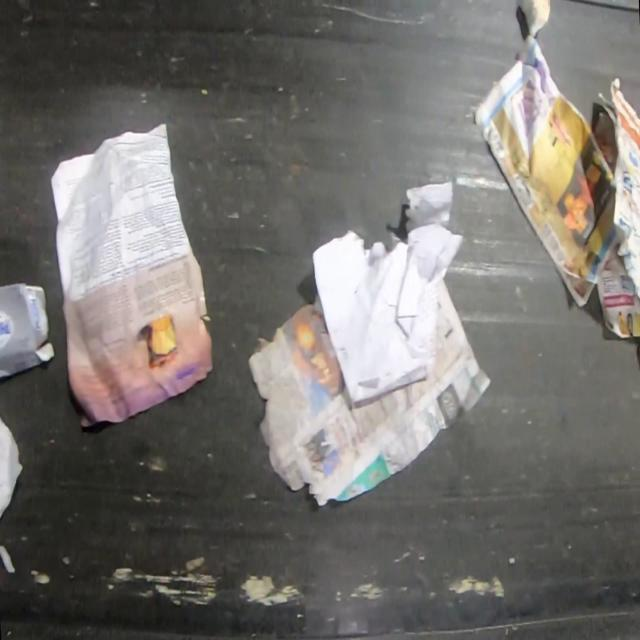cardboard: (0, 281, 54, 377)
